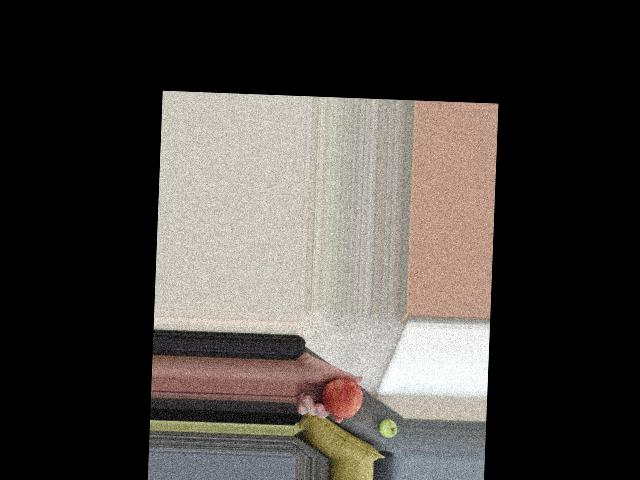apple: (373, 418, 399, 443)
